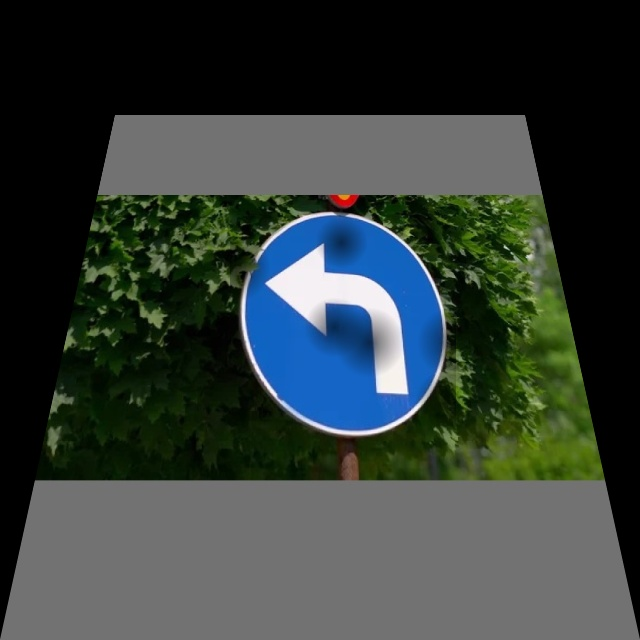Compulsory_Turn_Left_Ahead: (230, 212, 456, 431)
